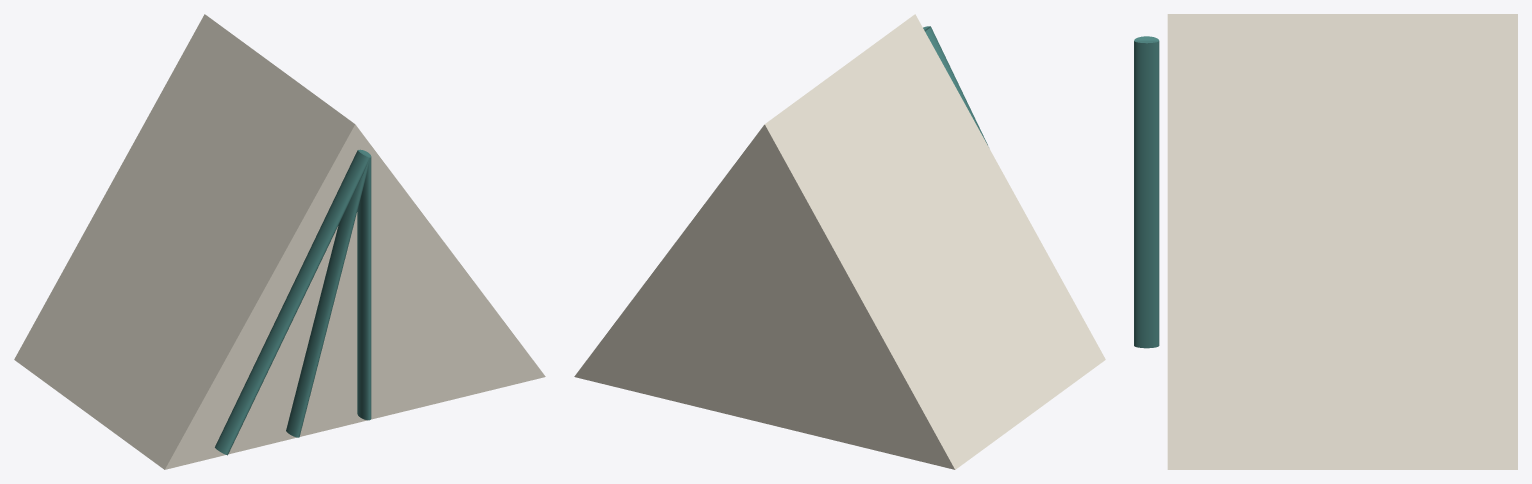
File: wp-serviette-pliee.glb
3 views of the same model, side by side, from view 1: azimuth 30°, elevation 25°; view 2: azimuth 150°, elevation 25°; view 3: azimuth 270°, elevation 25° (orthographic). The views are drawn at different scales.
Parts seen in each view (by area): view 1: wp-serviette-pliee; view 2: wp-serviette-pliee; view 3: wp-serviette-pliee.
Part boxes in pixels (x1,y1,x2,y2): wp-serviette-pliee: [14, 14, 545, 469]; wp-serviette-pliee: [574, 14, 1105, 469]; wp-serviette-pliee: [1134, 14, 1517, 469].
Size of the model in its own units: 0.16 by 0.12 by 0.12.
